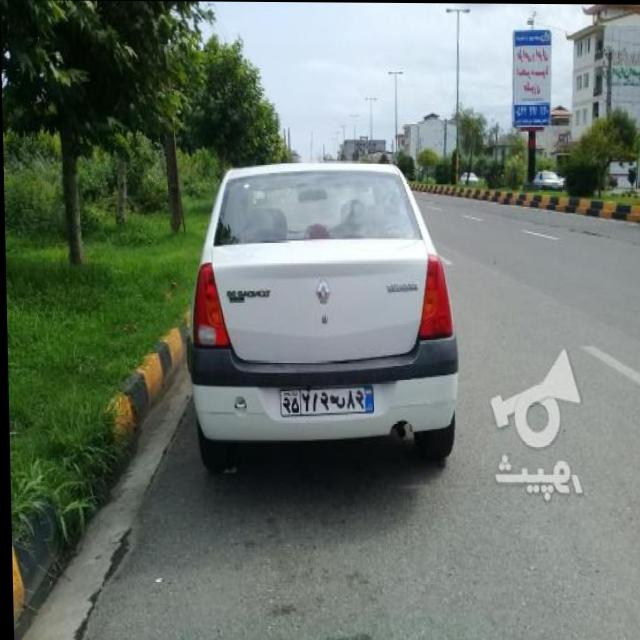licence: (277, 386, 376, 416)
